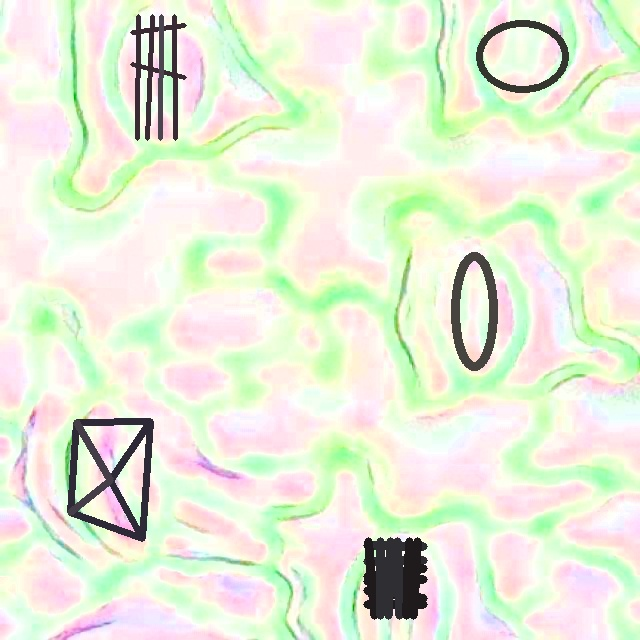close: (476, 19, 567, 93), (449, 251, 498, 371)
open: (68, 420, 153, 541), (130, 14, 186, 140), (363, 537, 427, 619)
